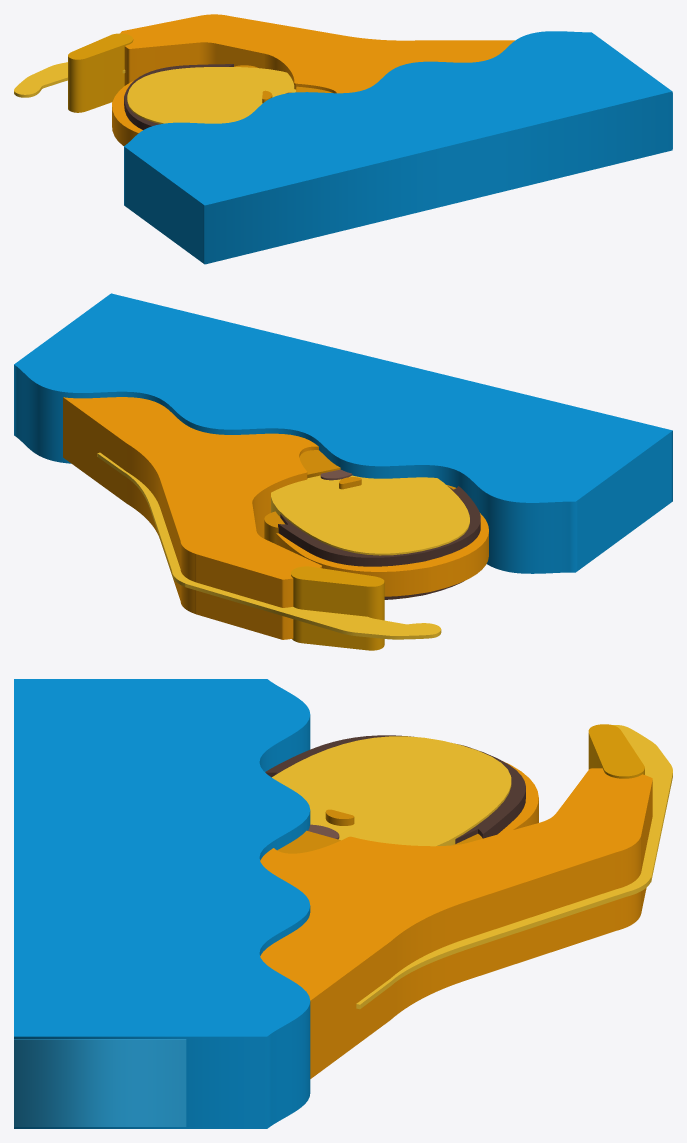
The model's file is emoji_u1f3ca.glb.
The picture shows the model from 3 angles, top to bottom: view 1: azimuth 30°, elevation 25°; view 2: azimuth 150°, elevation 25°; view 3: azimuth 270°, elevation 25°; orthographic projection. The views are drawn at different scales.
Visible parts, largest first — view 1: emoji_u1f3ca; view 2: emoji_u1f3ca; view 3: emoji_u1f3ca.
Boxes of the visible parts, left/top/right/bottom form: emoji_u1f3ca: left=14, top=14, right=672, bottom=264; emoji_u1f3ca: left=14, top=293, right=672, bottom=650; emoji_u1f3ca: left=14, top=679, right=672, bottom=1128.
Size of the model in its own units: 0.0332 by 0.004 by 0.0258.
